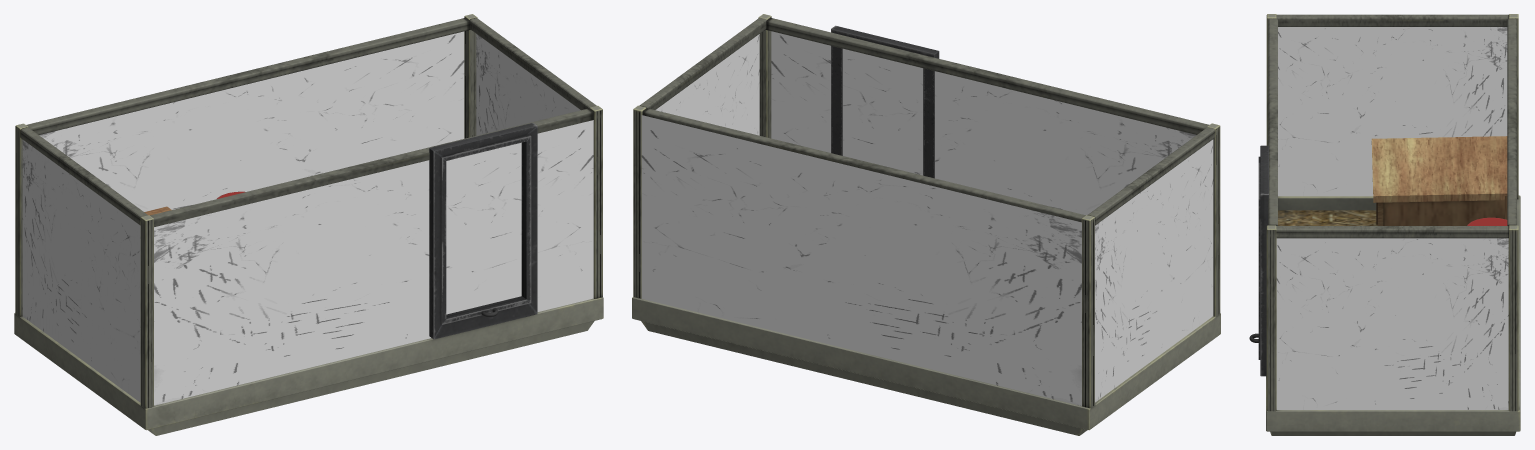
File: Cage 01.fbx
The picture shows the model from 3 angles, left to right: view 1: azimuth 30°, elevation 25°; view 2: azimuth 150°, elevation 25°; view 3: azimuth 270°, elevation 25°; orthographic projection. The views are drawn at different scales.
Visible parts, largest first — view 1: Glass6, cage_01; view 2: Glass6, cage_01; view 3: Glass6, cage_01.
Boxes of the visible parts, x1,y1,x2,y2 form: Glass6: (22,31,593,405); cage_01: (14,14,603,435); Glass6: (641,31,1213,405); cage_01: (632,14,1220,435); Glass6: (1276,27,1508,409); cage_01: (1249,14,1520,435).
Bounding box in the file's own units: 212 × 98.3 × 112.
Materials: 2 (2 with a texture image).
